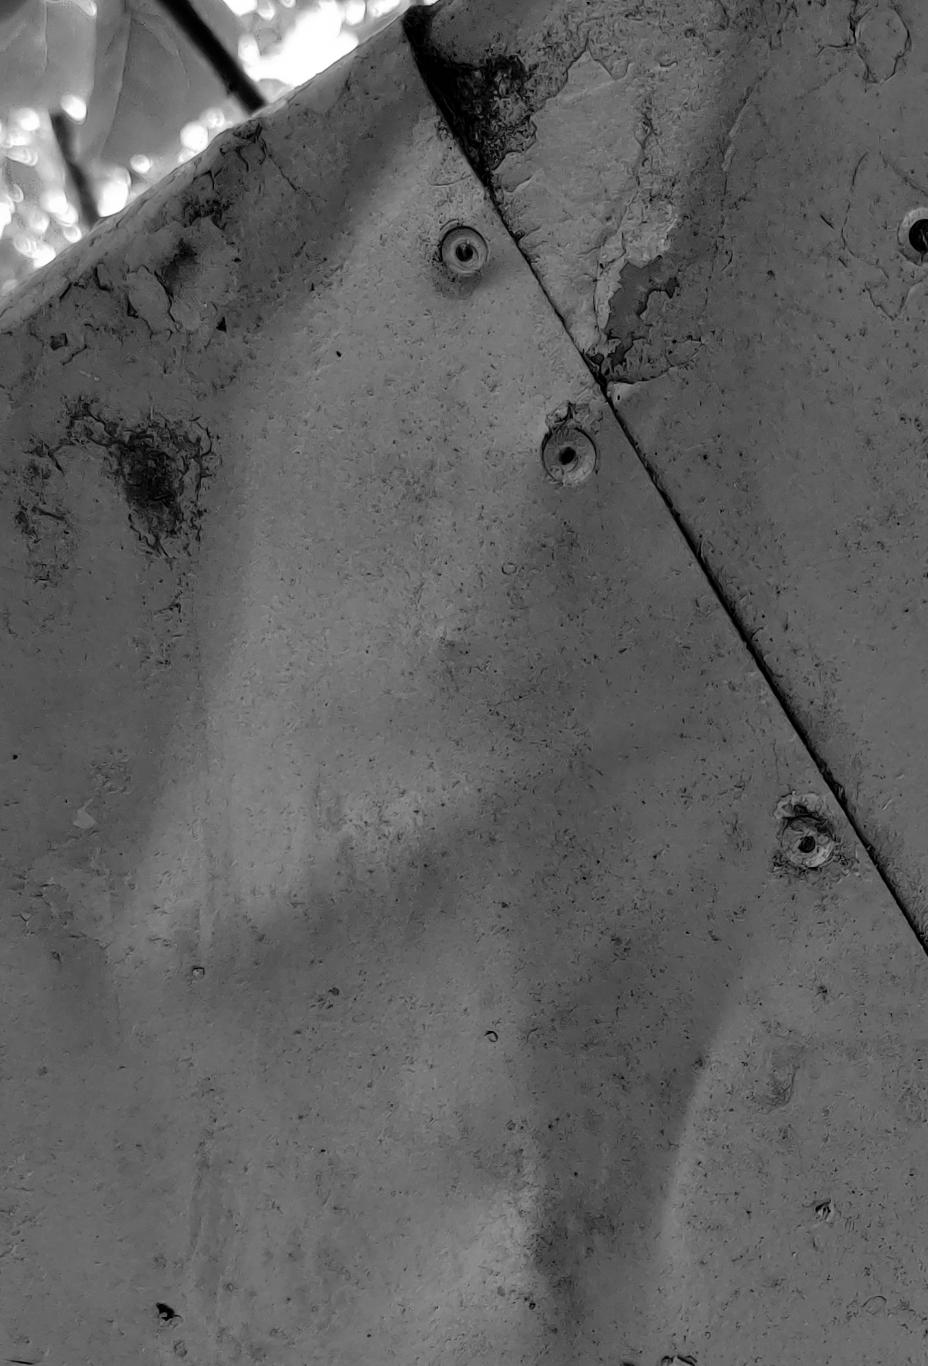dent: (1, 0, 928, 1365)
